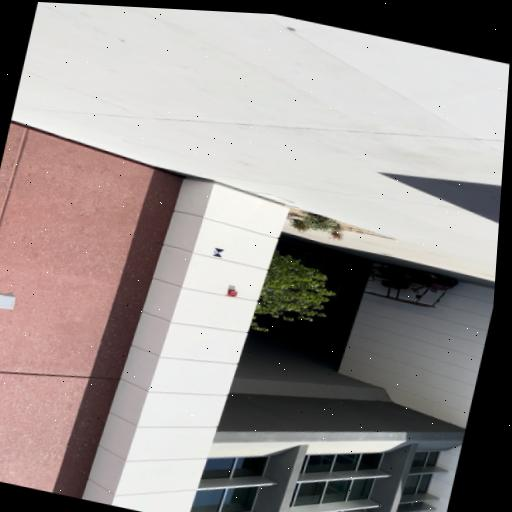target6: (211, 247, 225, 257)
